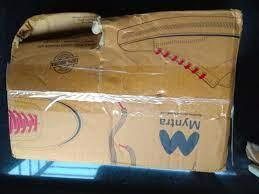damage_box: (5, 8, 244, 173)
